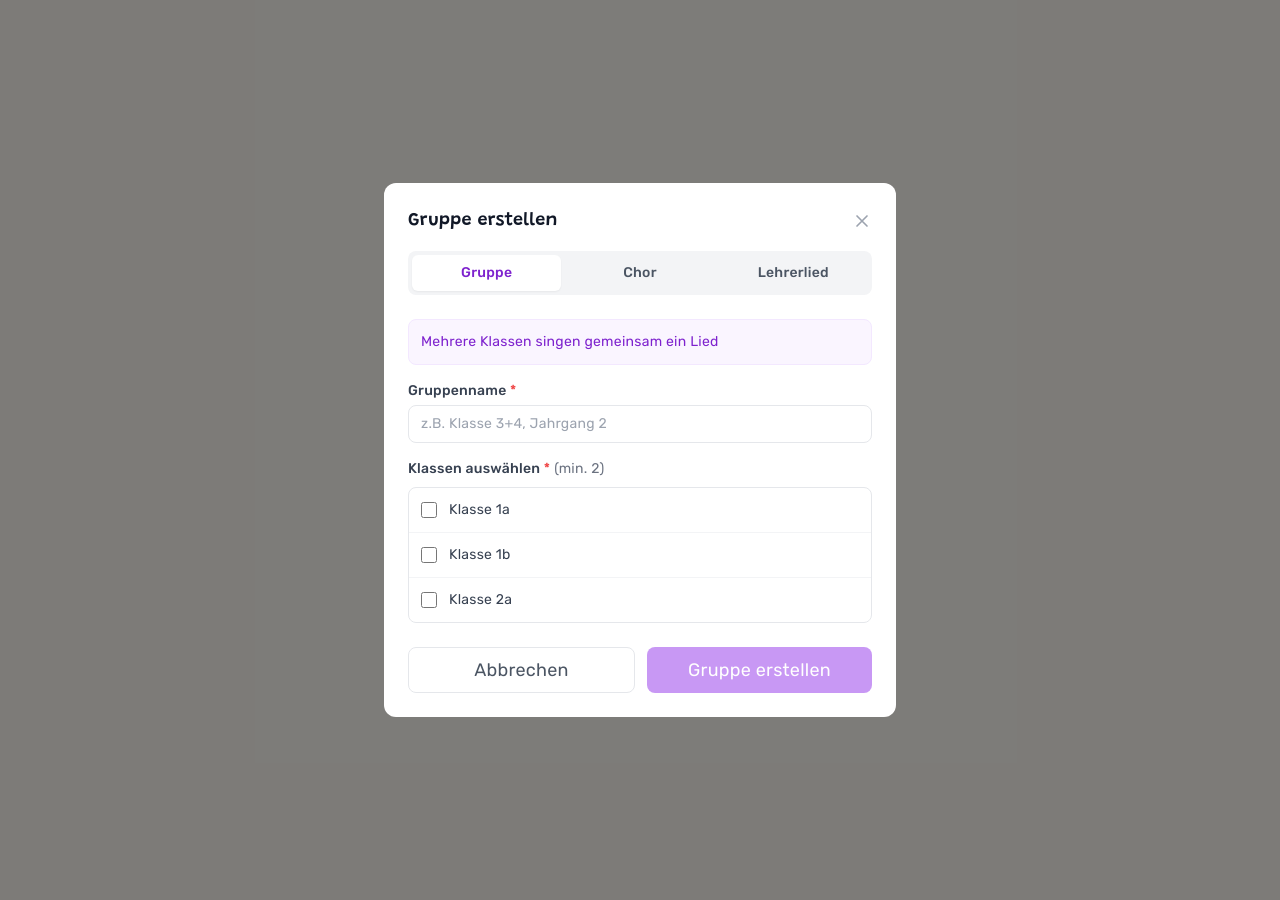
Scenario: UnifiedAddModal › enables submit button when form is valid
The image size is (1280, 900).
Enter name
Type "Test Gruppe" into the field with placeholder "z.B. Klasse 3+4, Jahrgang 2".
click(640, 424); type("Test Gruppe")  # box [408,405,872,443]
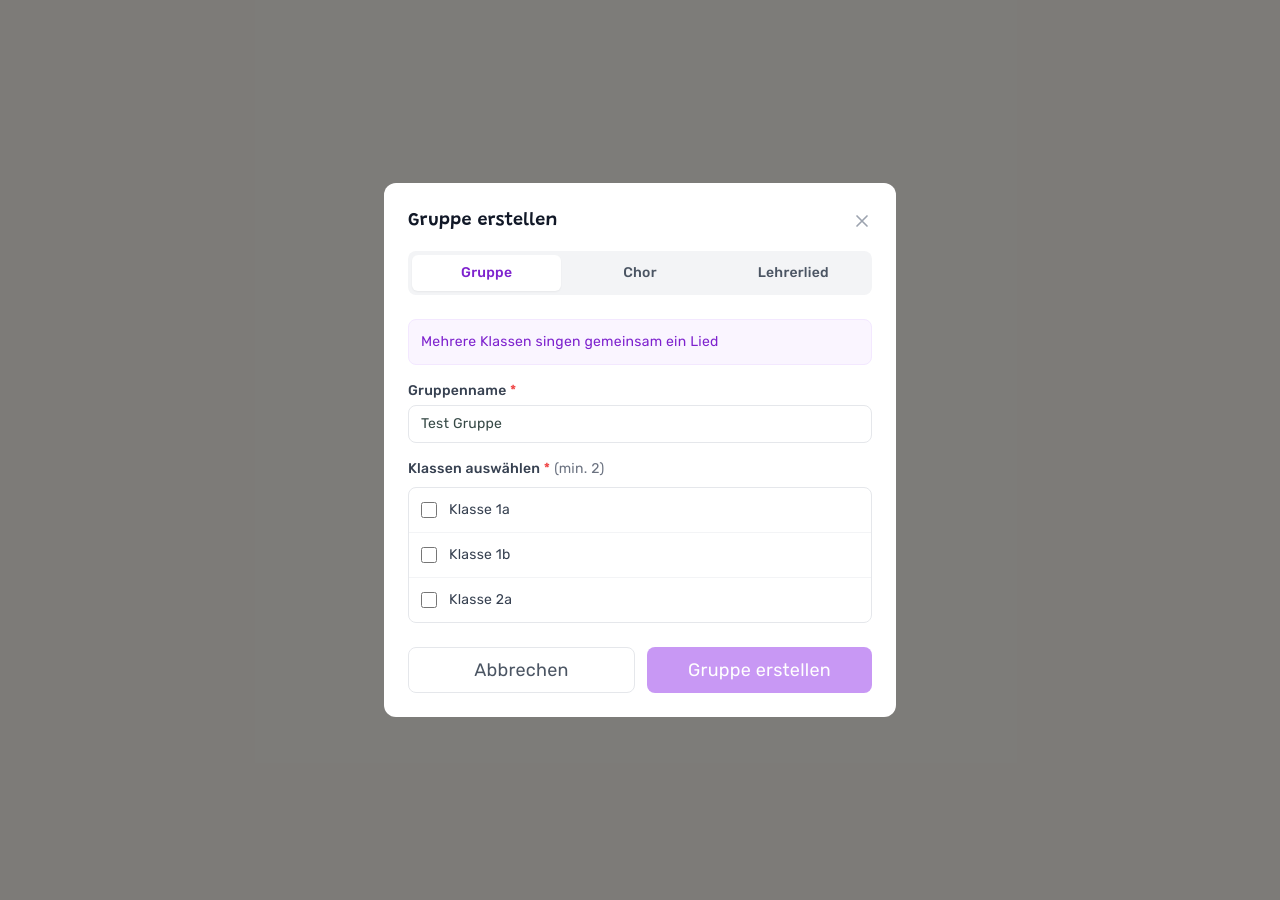
Click the text "Klasse 1a".
click(480, 510)  # box [449,500,510,520]
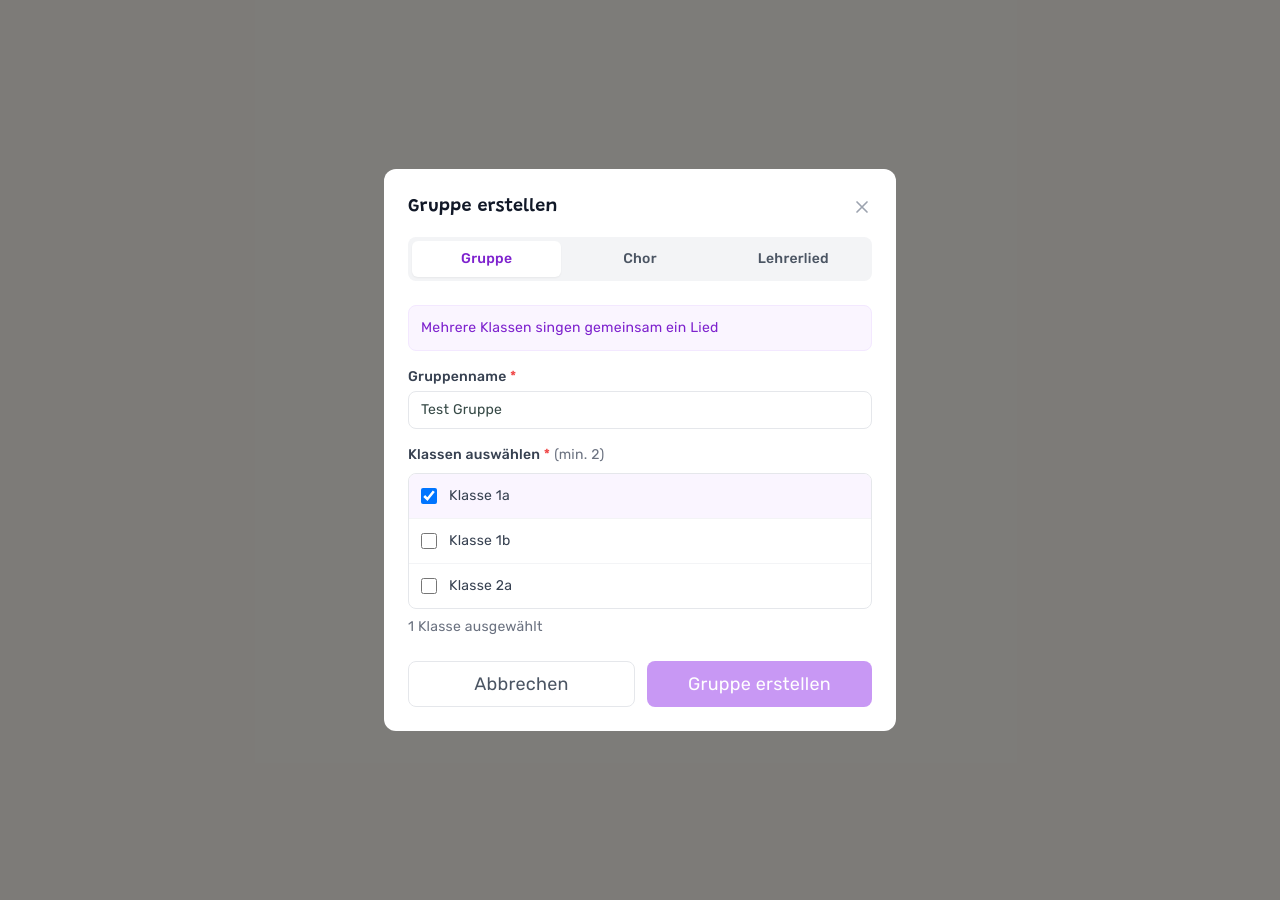
Click the text "Klasse 1b".
click(480, 541)  # box [449,531,511,551]
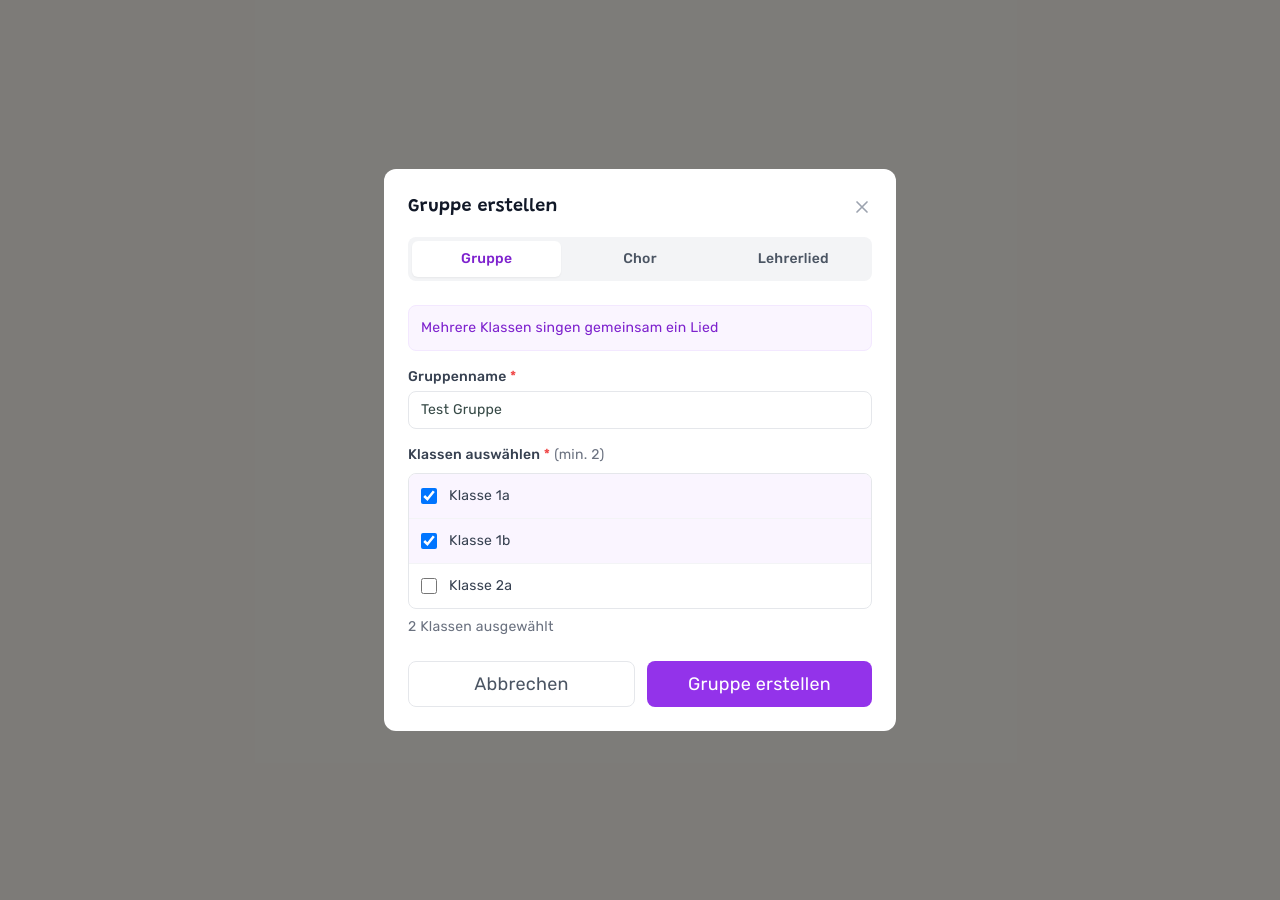
Now the button "Gruppe erstellen" is enabled, box [647,661,872,707]
